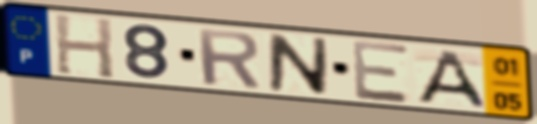8: (121, 22, 173, 81)
A: (412, 48, 489, 110)
E: (349, 38, 414, 106)
H: (51, 11, 117, 81)
N: (265, 31, 330, 98)
R: (193, 26, 263, 90)
